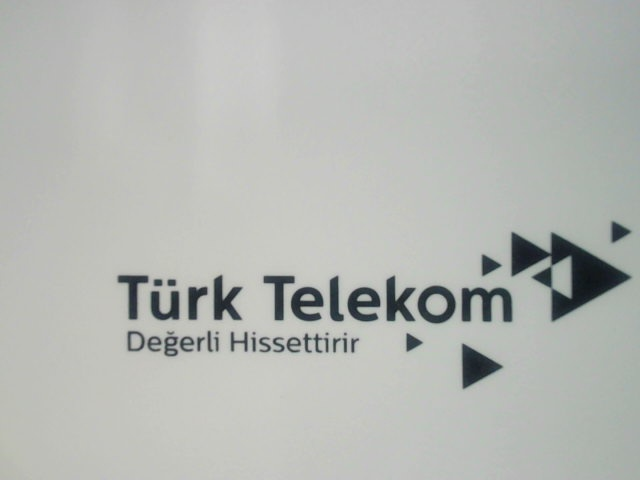AQ_TURKTelekom: (109, 213, 631, 395)
